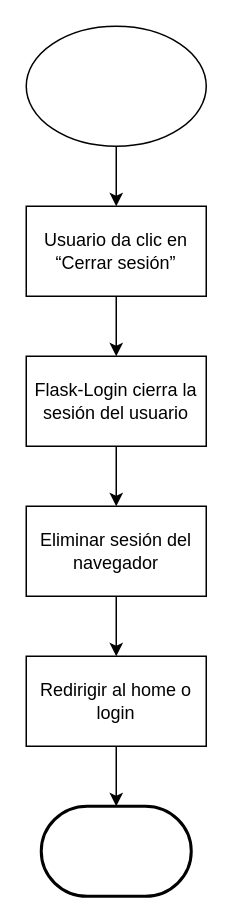
This 233x924 diagram has some shape labels left out. The shapes that lost their labels are listed below. From the top down, each one's box as (x1, y1, x2, y2) in pixels, then its label:
(25, 25, 206, 146): Inicio
(39, 804, 192, 897): Fin
